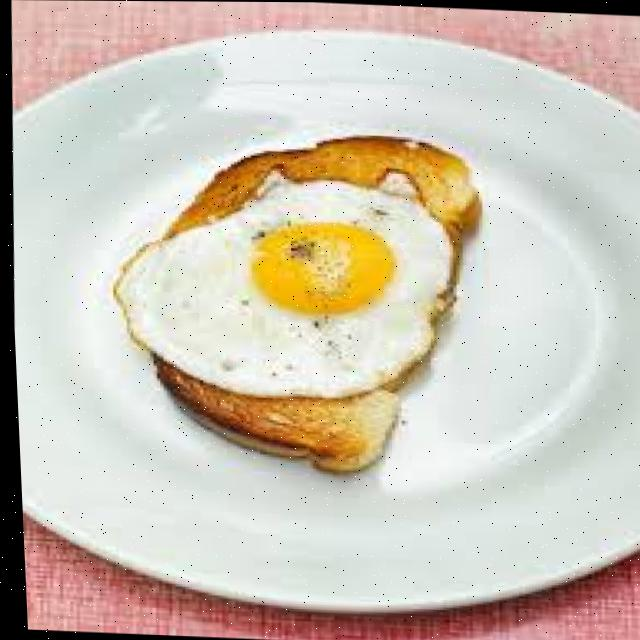Bread: (166, 136, 479, 248), (150, 355, 389, 471)
Egg: (113, 177, 448, 397)
